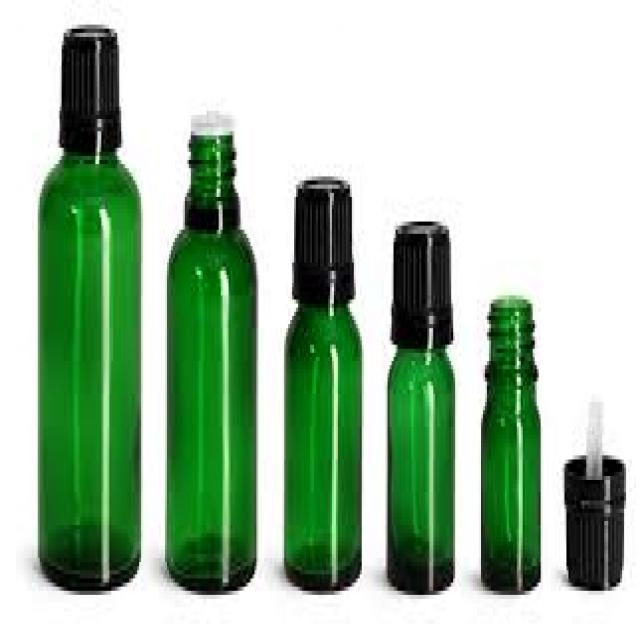Glass: (35, 21, 145, 592), (165, 116, 260, 594), (282, 174, 364, 594), (384, 215, 459, 594), (478, 287, 544, 596)
Plastic: (560, 450, 628, 599), (387, 217, 458, 353), (288, 178, 359, 308)
